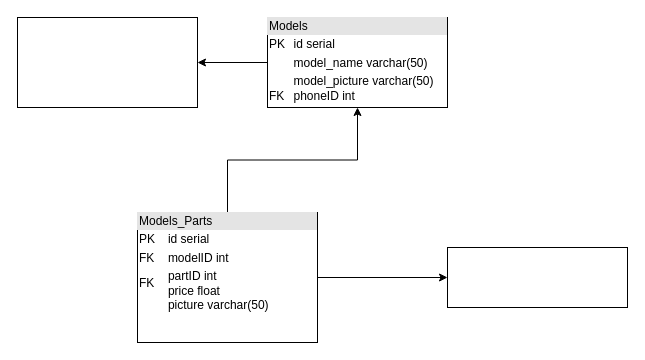
This 645x360 diagram has some shape labels left out. The centre of each missing label's shape, as x and y in pixels:
"Parts PK partID serial partname varchar(50)" belongs at [537,277].
"Phones PK phoneID serial phone_name varchar(50) model_picture varchar(50)" belongs at [107,62].
